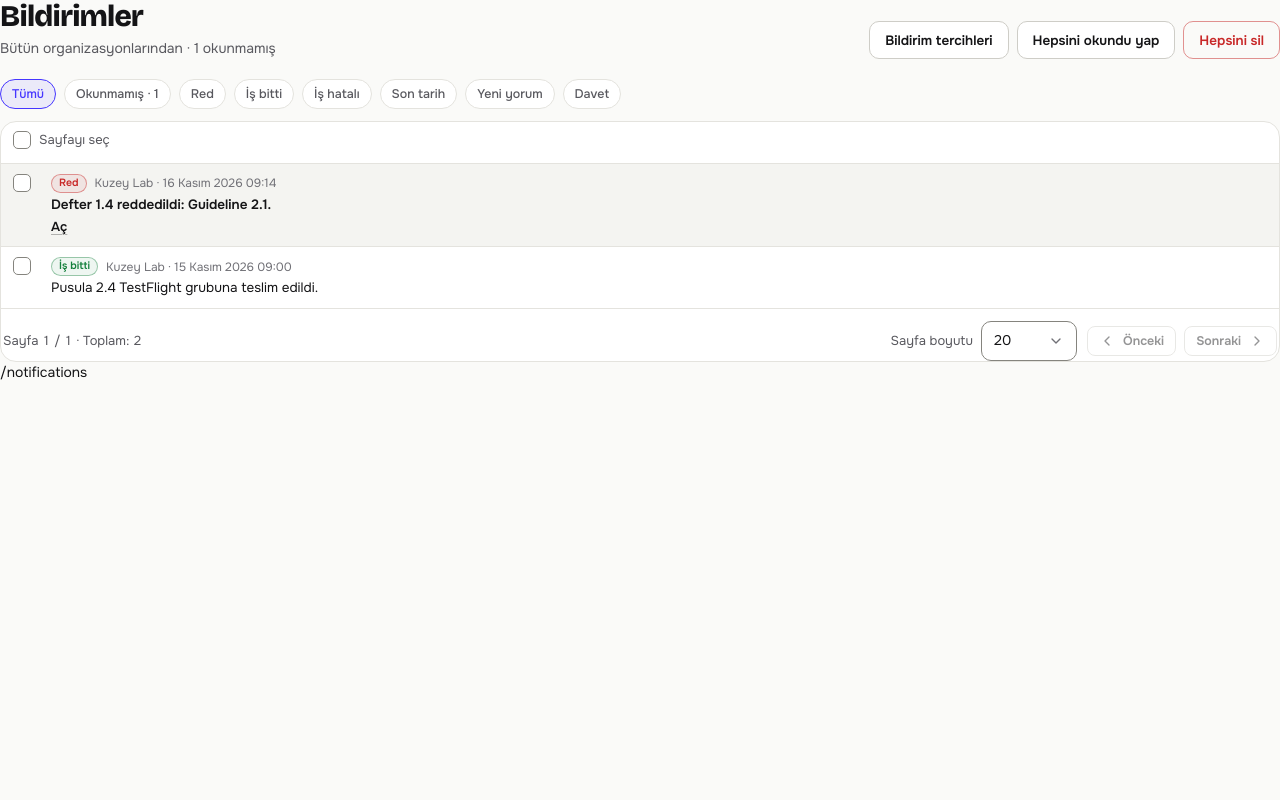
NotificationsPage › marks the selected notifications read and deletes them
Expected: the text "Defter 1.4 reddedildi: Guideline 2.1." is shown, [51, 196, 271, 213]
Click the 1st checkbox labelled "Sayfayı seç".
click(61, 140)  # box [13, 130, 110, 150]
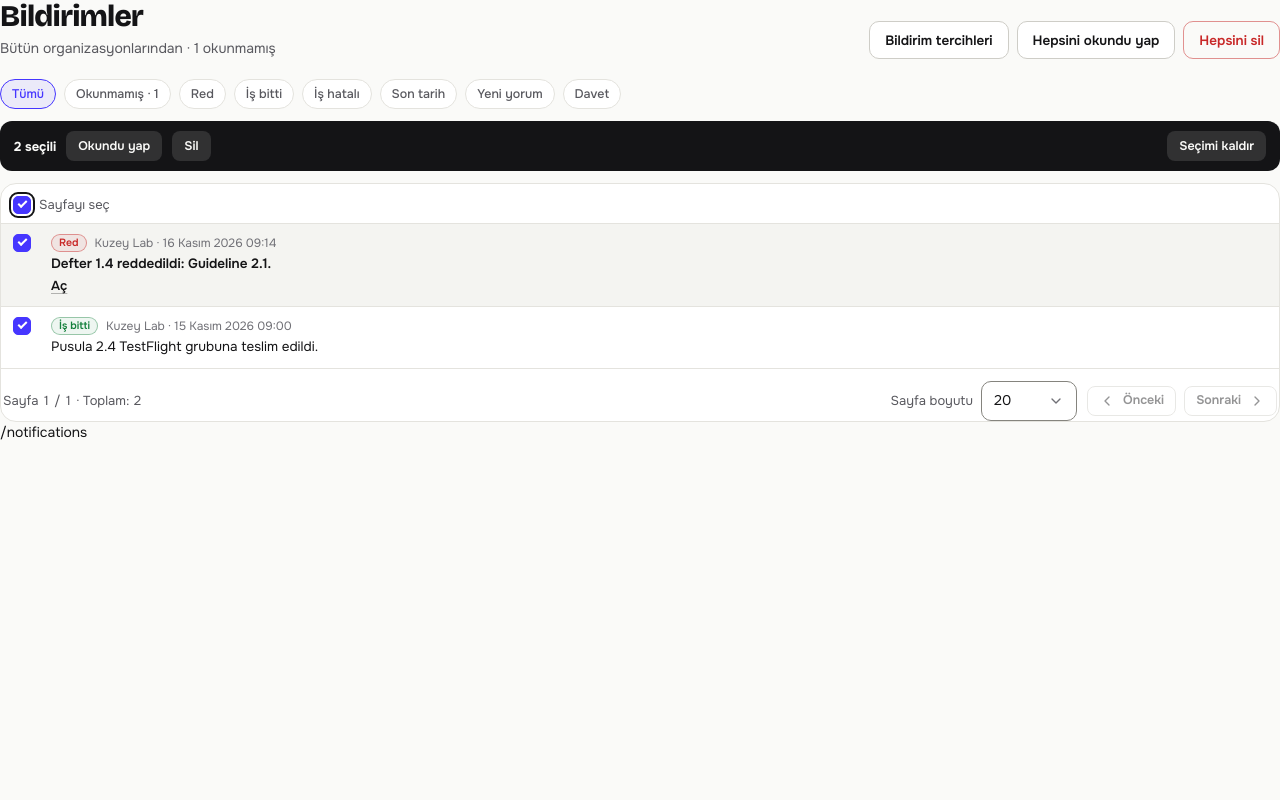
Click the button "Okundu yap".
click(114, 146)  # box [66, 131, 162, 161]
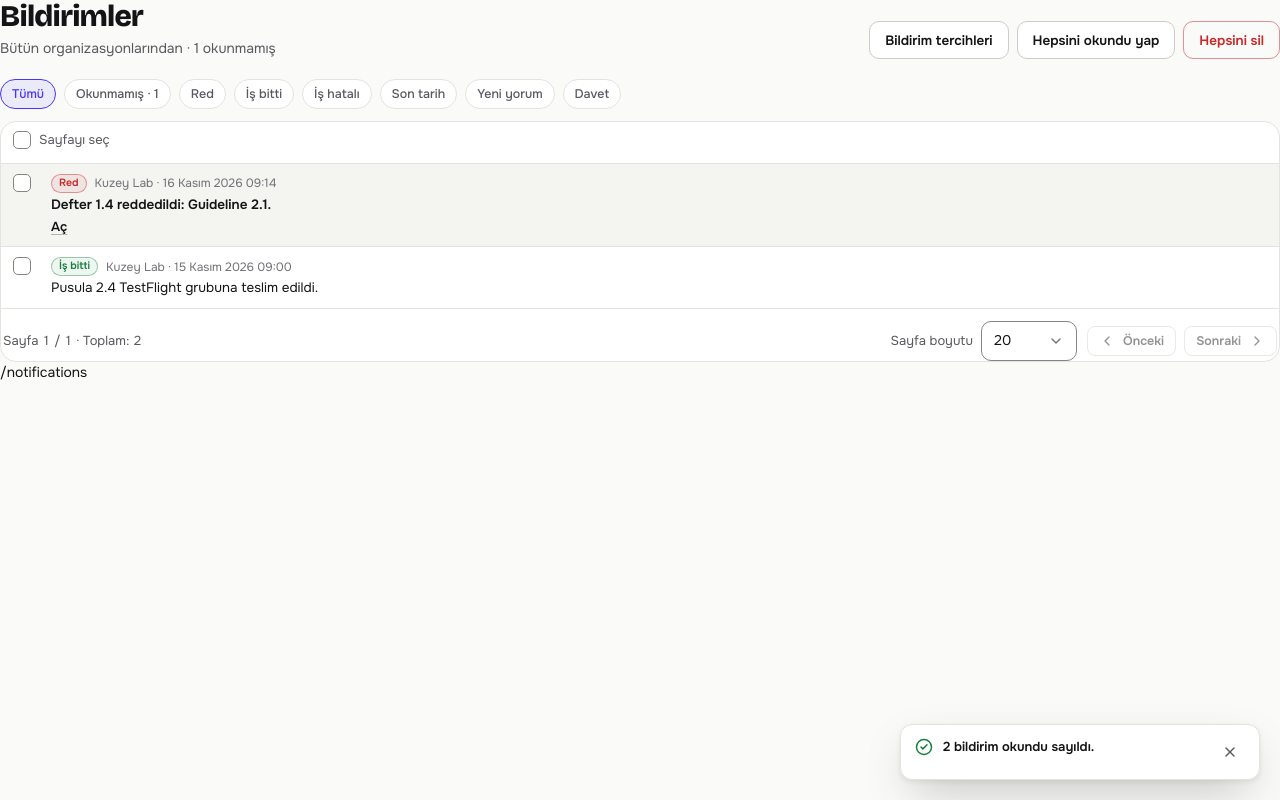
Expected: the text "2 bildirim okundu sayıldı." is shown, [943, 738, 1094, 755]
Click the checkbox named "\"Defter 1.4 reddedildi: Guideline 2.1.\" seç".
click(26, 183)  # box [13, 174, 39, 192]
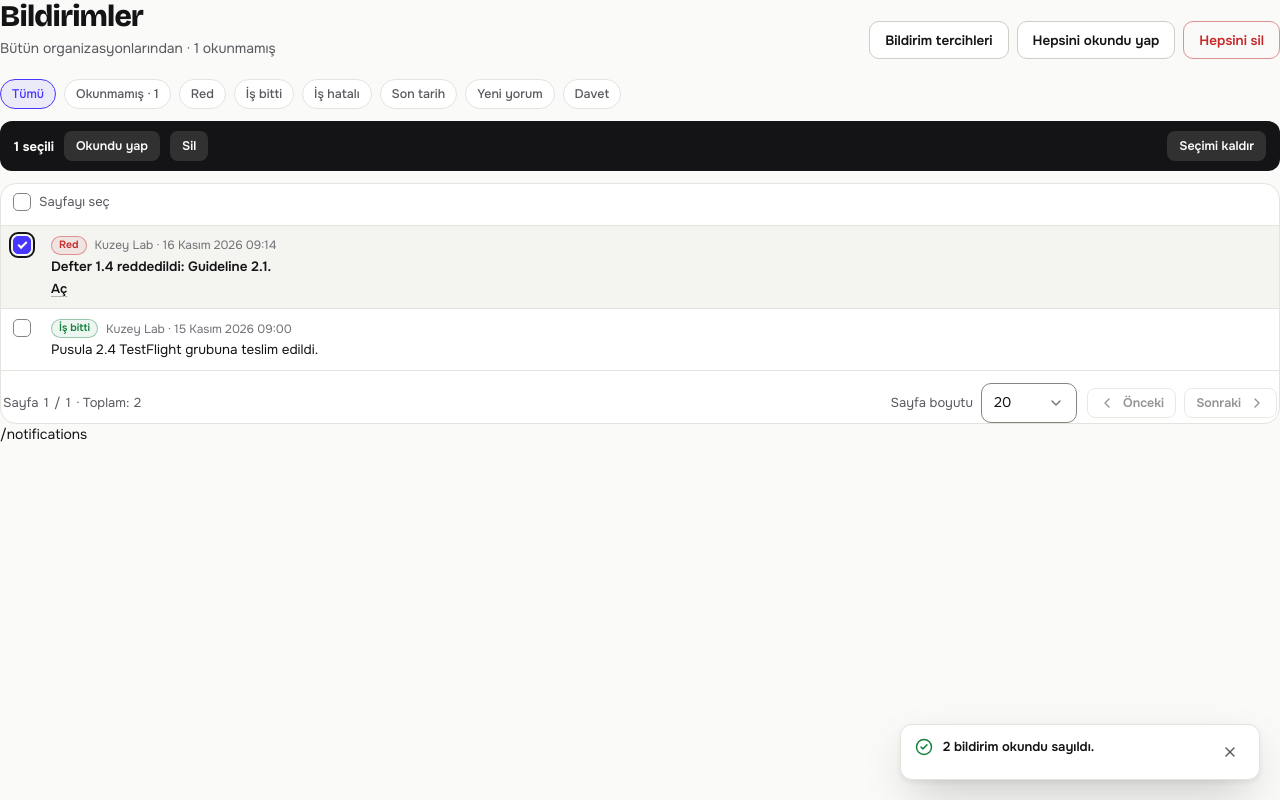
Click the button "Sil".
click(189, 146)  # box [170, 131, 208, 161]
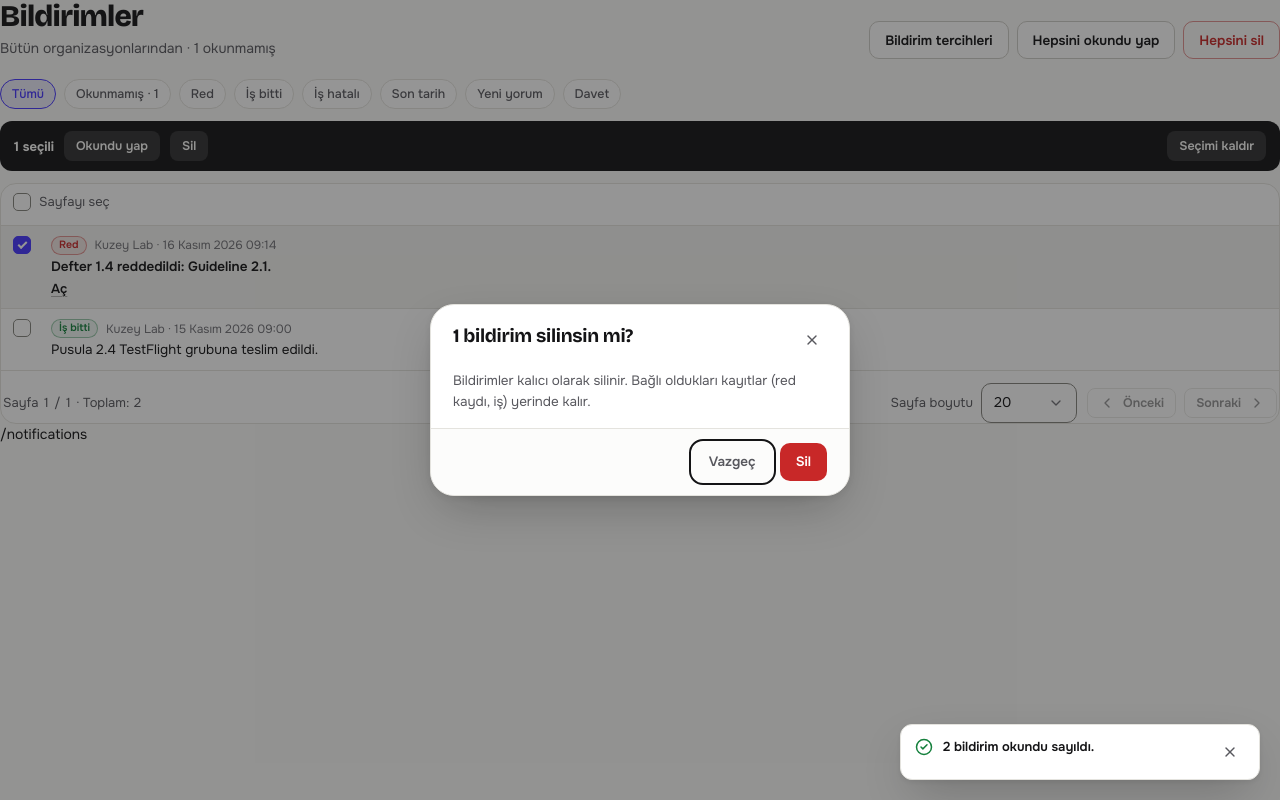
Click the button "Sil".
click(803, 462)  # box [780, 443, 827, 481]
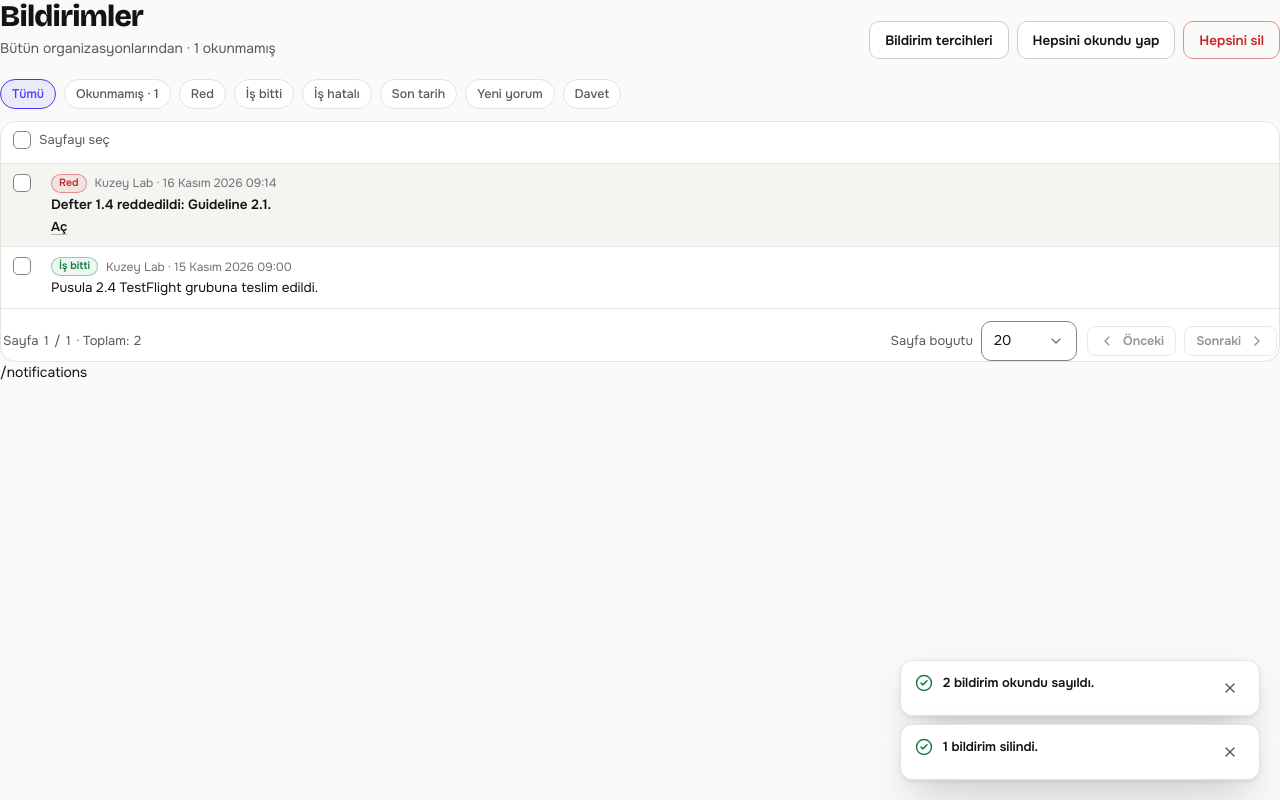
Expected: the text "1 bildirim silindi." is shown, [943, 738, 1038, 755]
